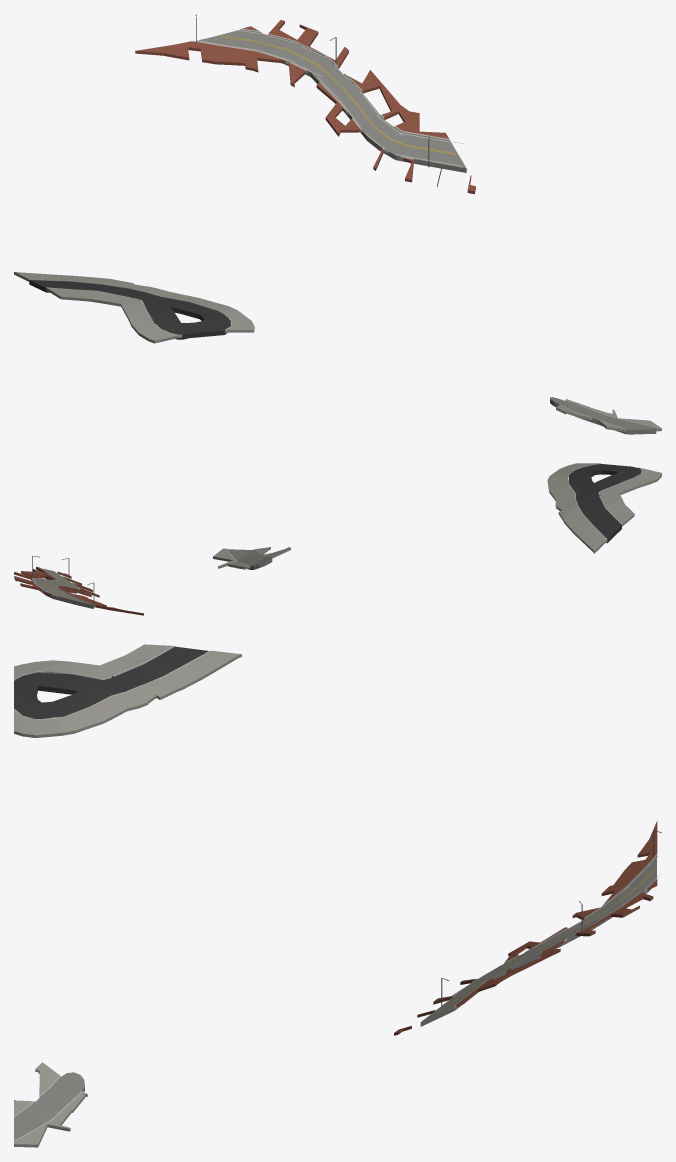
3 views of the same model, one above another, from view 1: azimuth 30°, elevation 25°; view 2: azimuth 150°, elevation 25°; view 3: azimuth 270°, elevation 25° (orthographic). The views are drawn at different scales.
Bounding box in the file's own units: 149 × 59.39 × 147.
